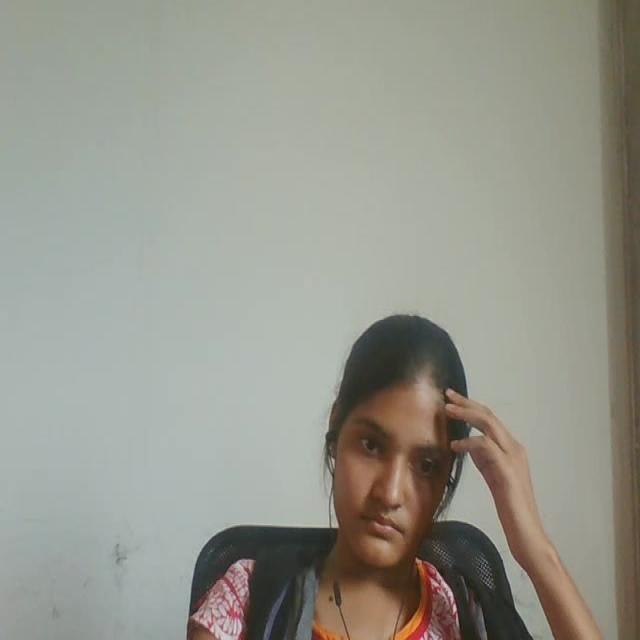Bored: (316, 284, 483, 580)
